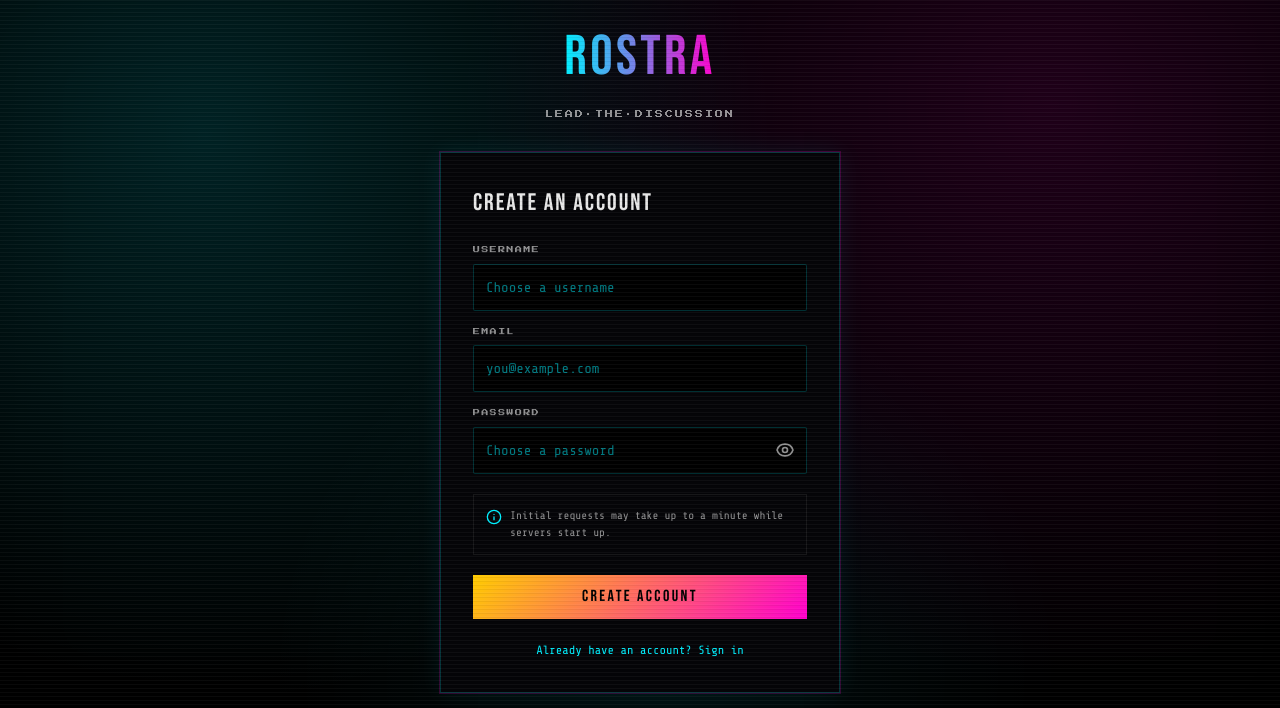
Test: Register › shows API error for duplicate username or email
Type "alice" into the field labelled "USERNAME" at (640, 287), box [473,264,807,310]
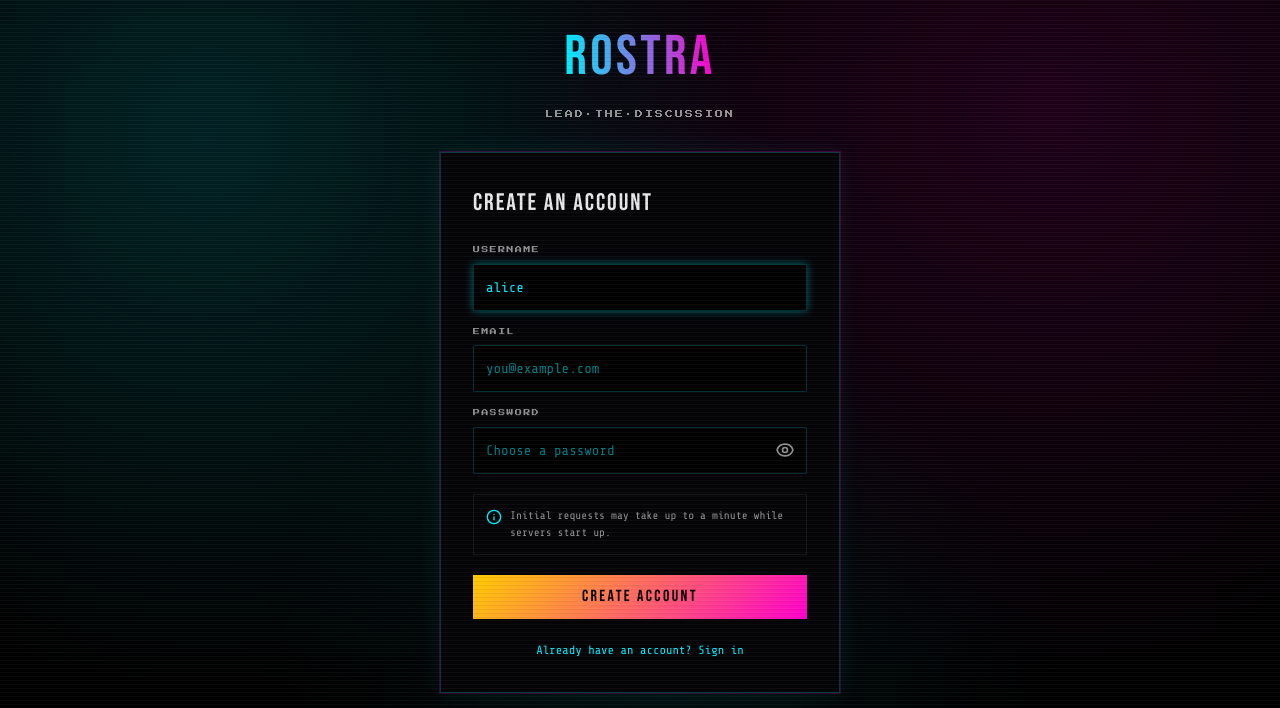
Type "alice@example.com" into the field labelled "EMAIL" at (640, 368), box [473,345,807,392]
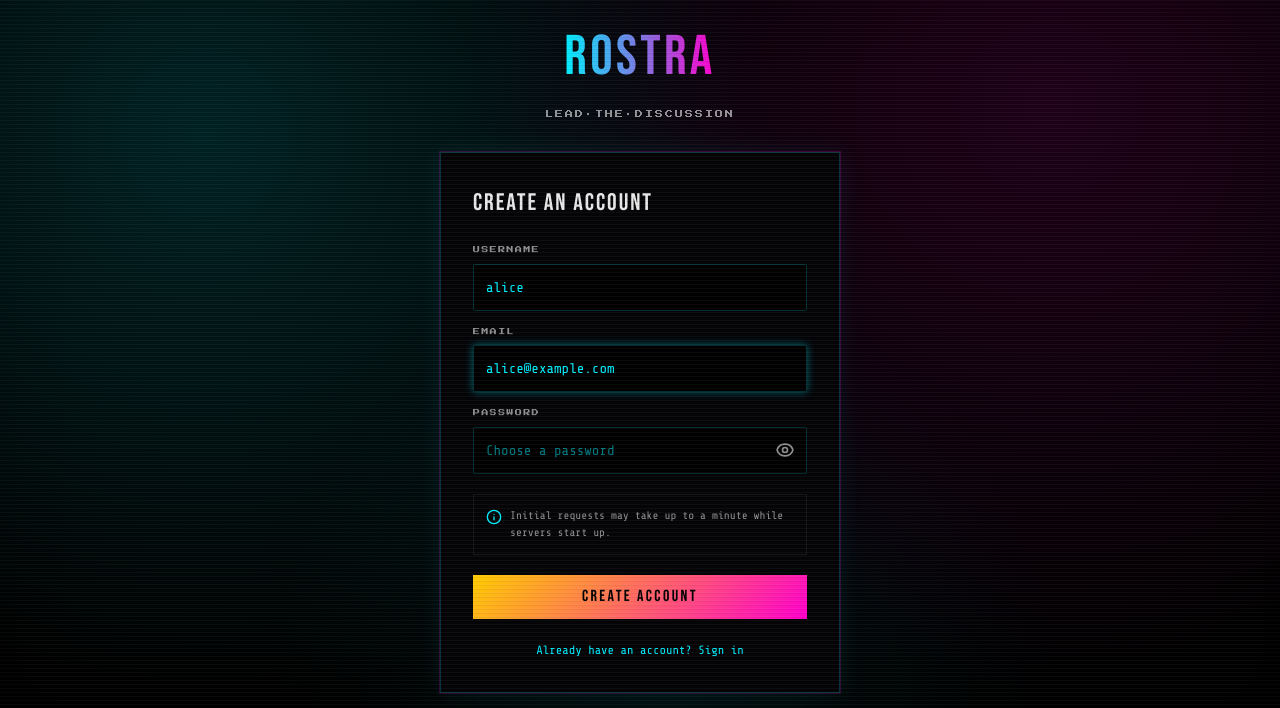
Type "password123" into the password field labelled "PASSWORD" at (640, 450), box [473,426,807,474]
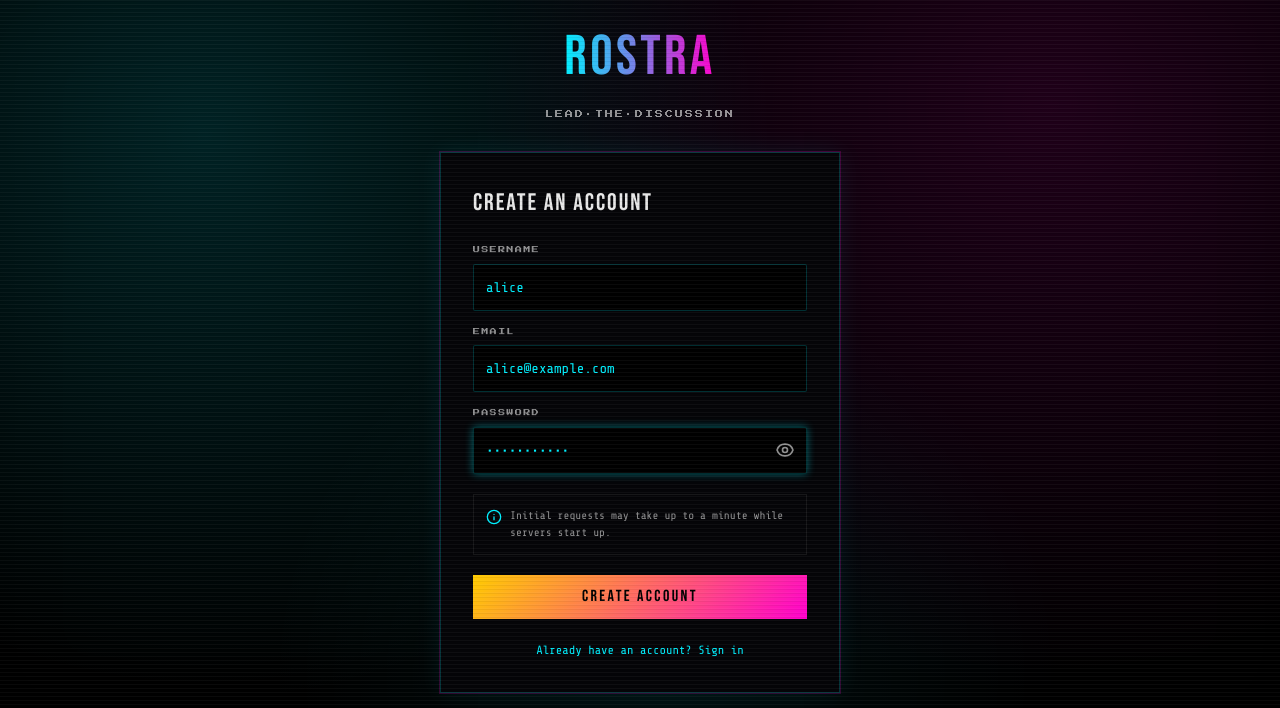
Click the button "CREATE ACCOUNT" at (640, 597), box [473,575,807,619]
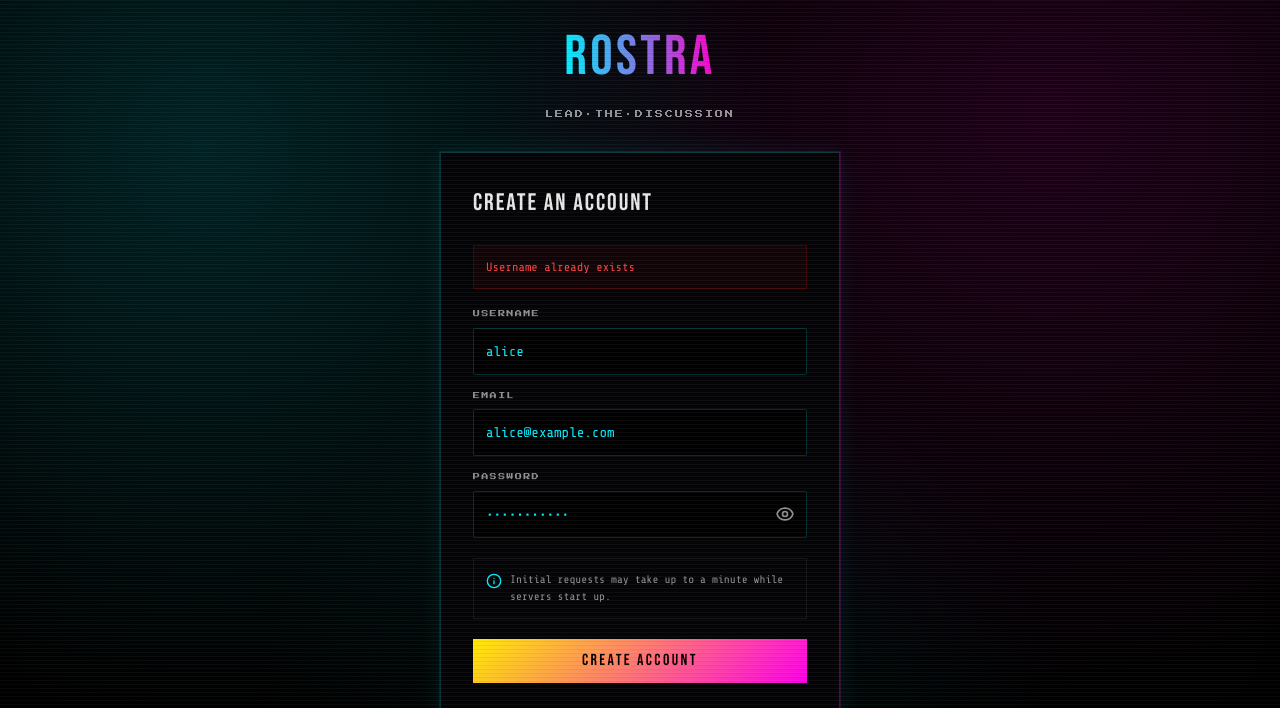
Check: the text "Username already exists" is shown, box [473,245,807,289]
